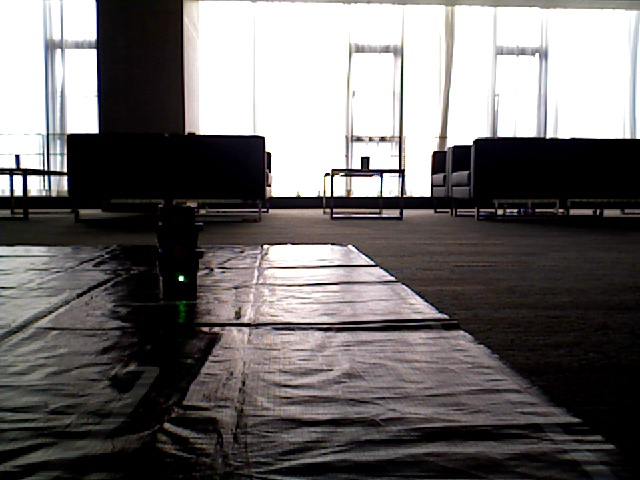green: (164, 204, 192, 290)
